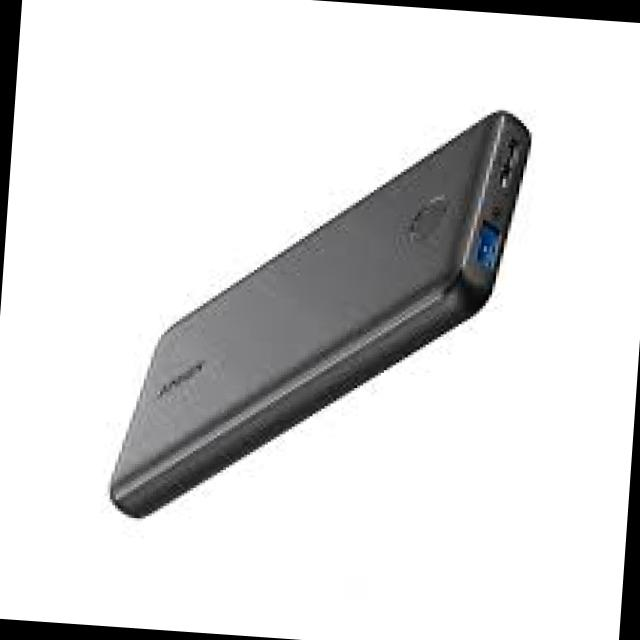power_bank: (105, 78, 540, 546)
